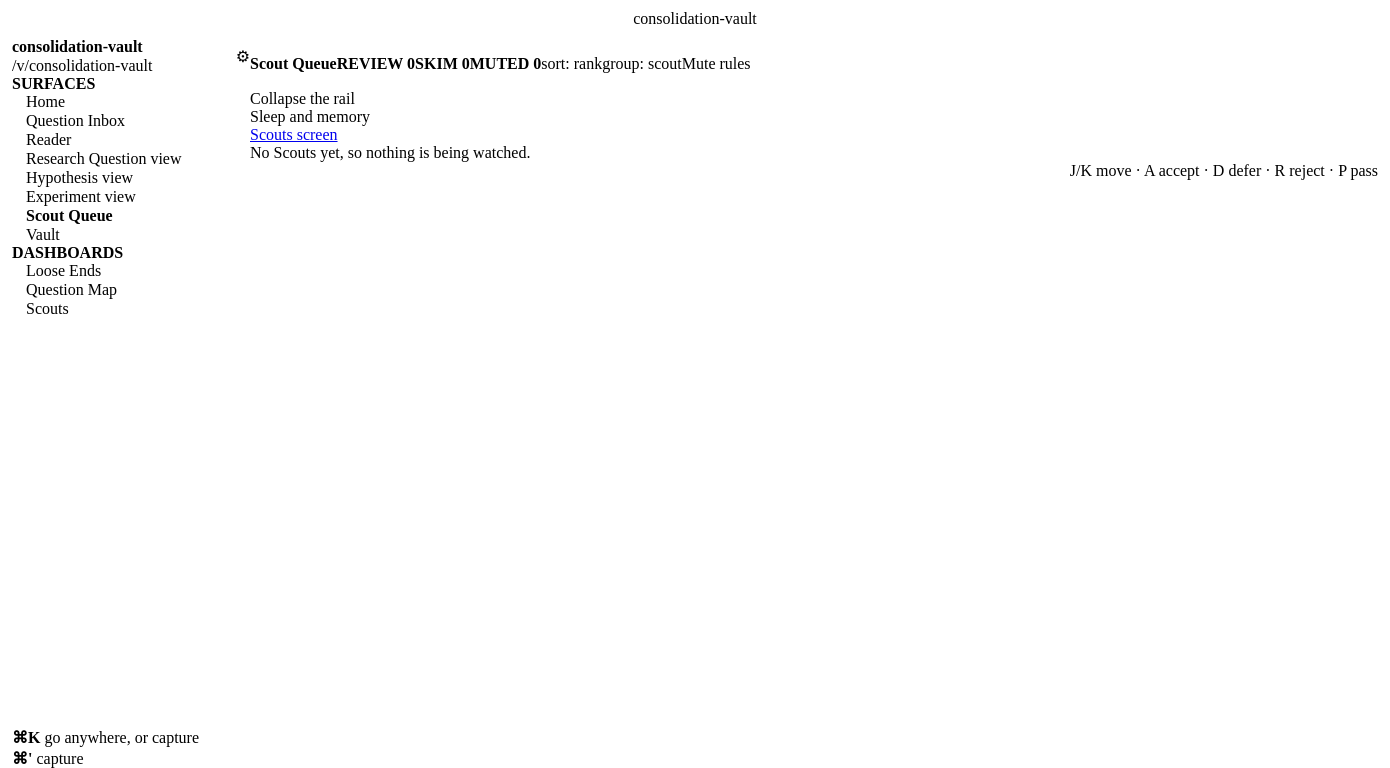
Test case: a refused act in the Scout Queue › run now is an alert carrying the core's sentence, and no status stands in its place
This screenshot has width=1390, height=768.
Click the button "Sleep and memory".
click(310, 117)  # box [250, 108, 370, 126]
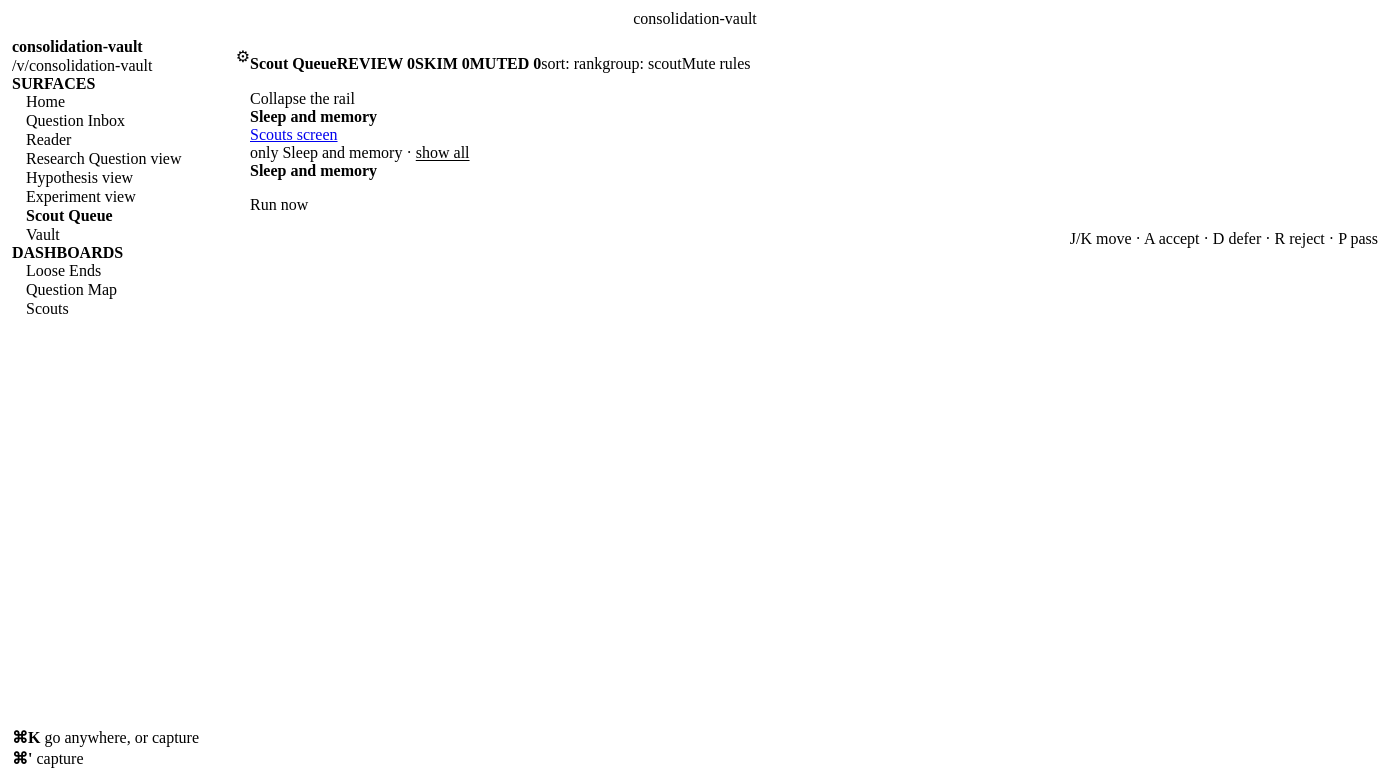
Click the button "Run now".
click(279, 205)  # box [250, 196, 308, 214]
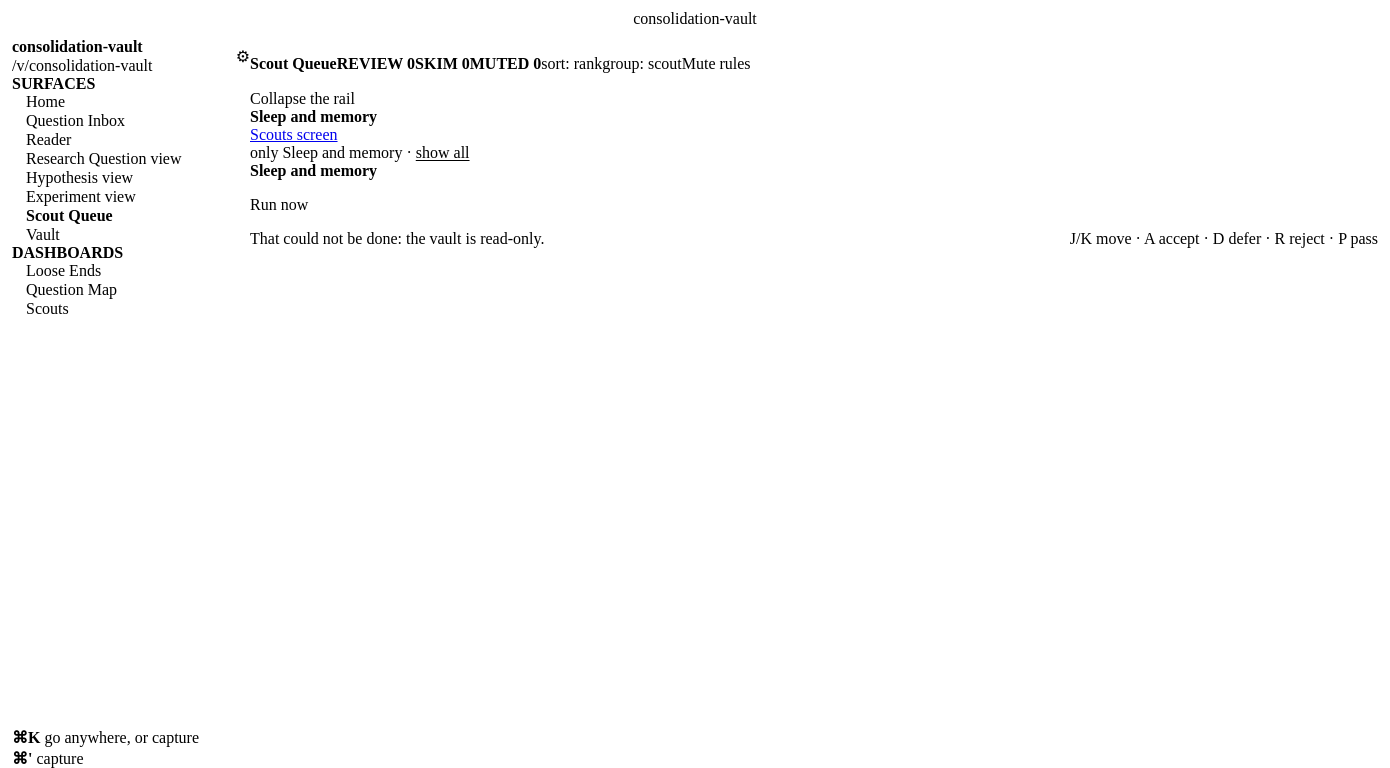
Result: the message reads "That could not be done: the vault is read-only." at [250, 230, 544, 247]
